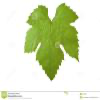grape leaf: (22, 3, 87, 82)
